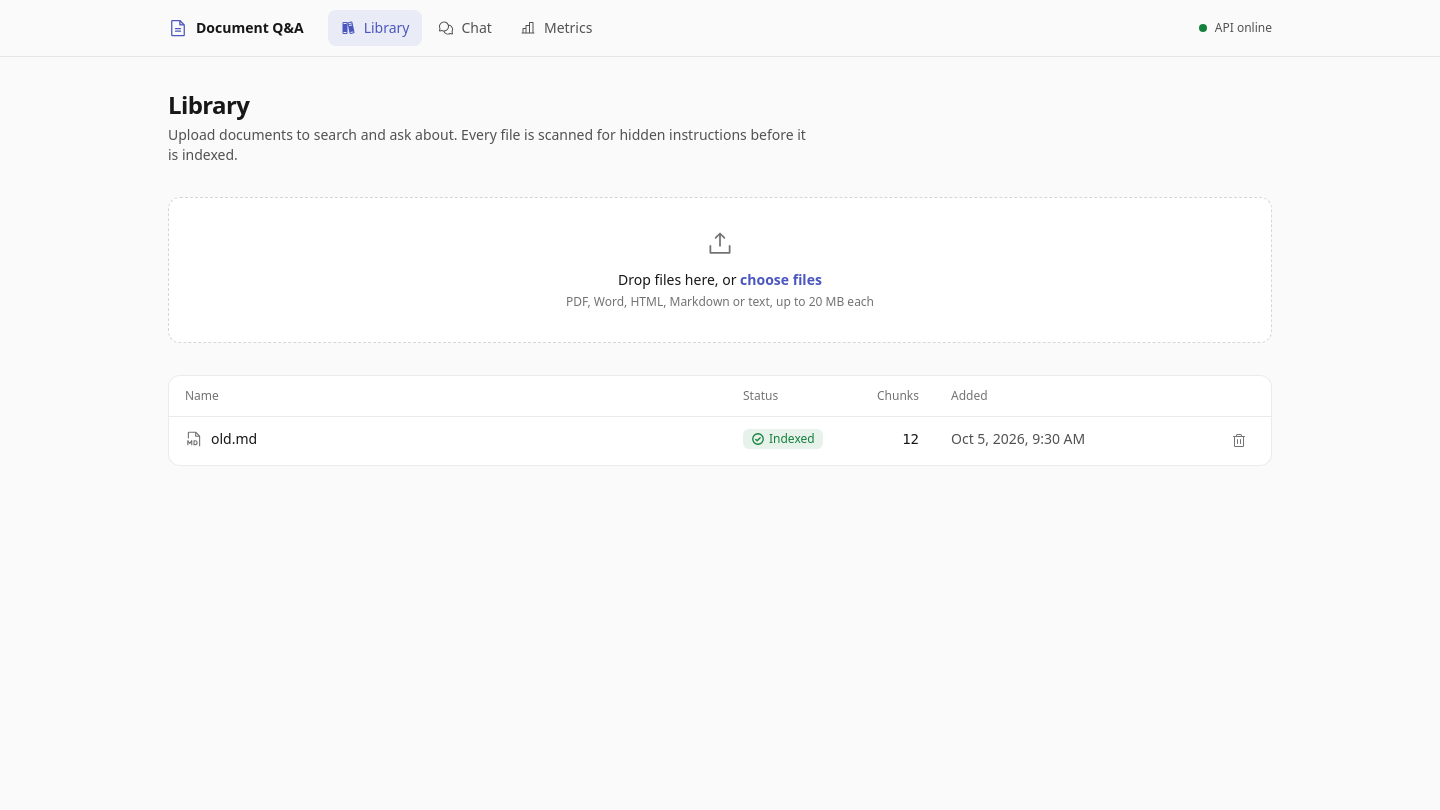
Scenario: delete › asks for confirmation, then deletes and refreshes
The image size is (1440, 810).
Click the button named "Delete old.md". click: (1239, 441)
box: [1223, 425, 1255, 457]
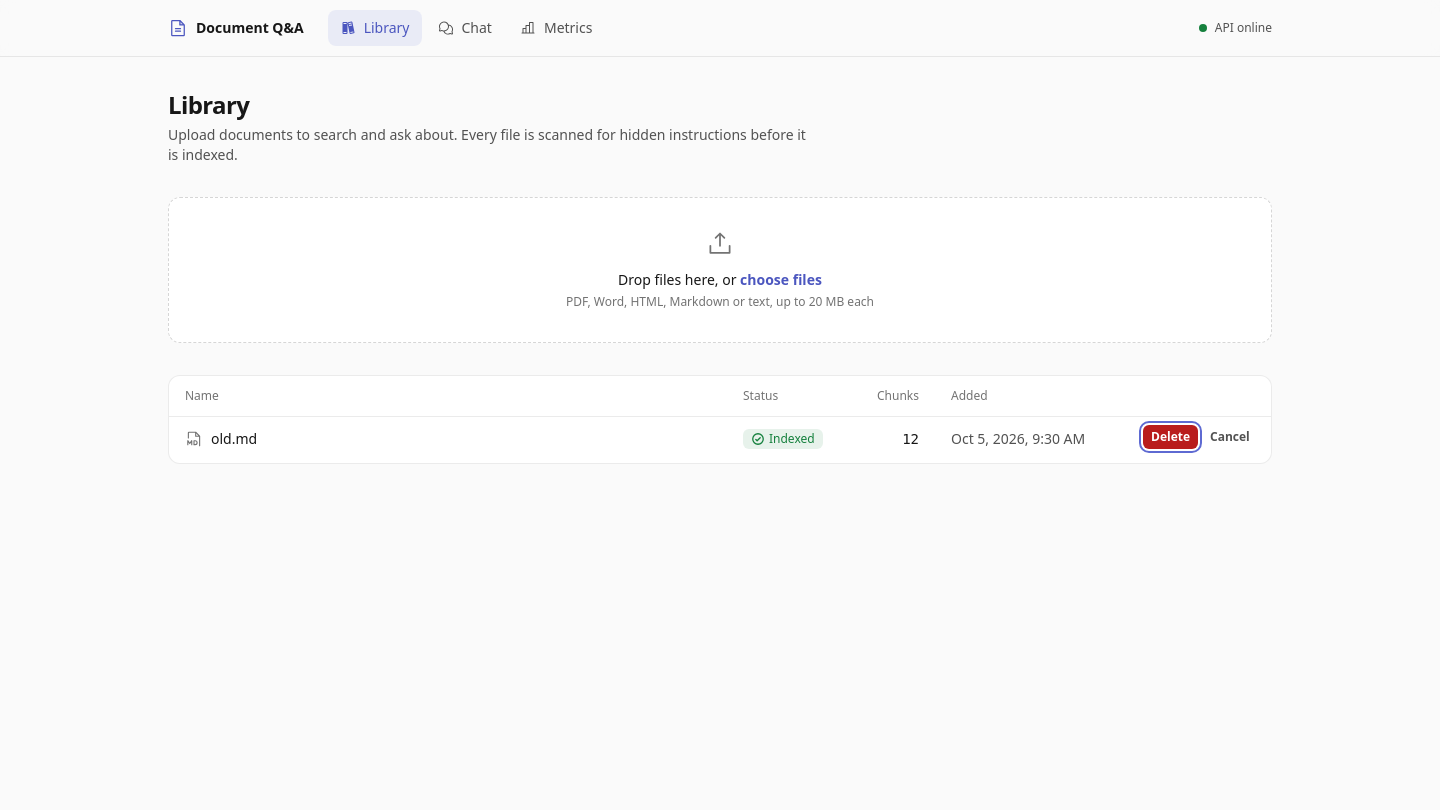
Click the button "Delete". click: (1170, 437)
box: [1143, 425, 1198, 449]
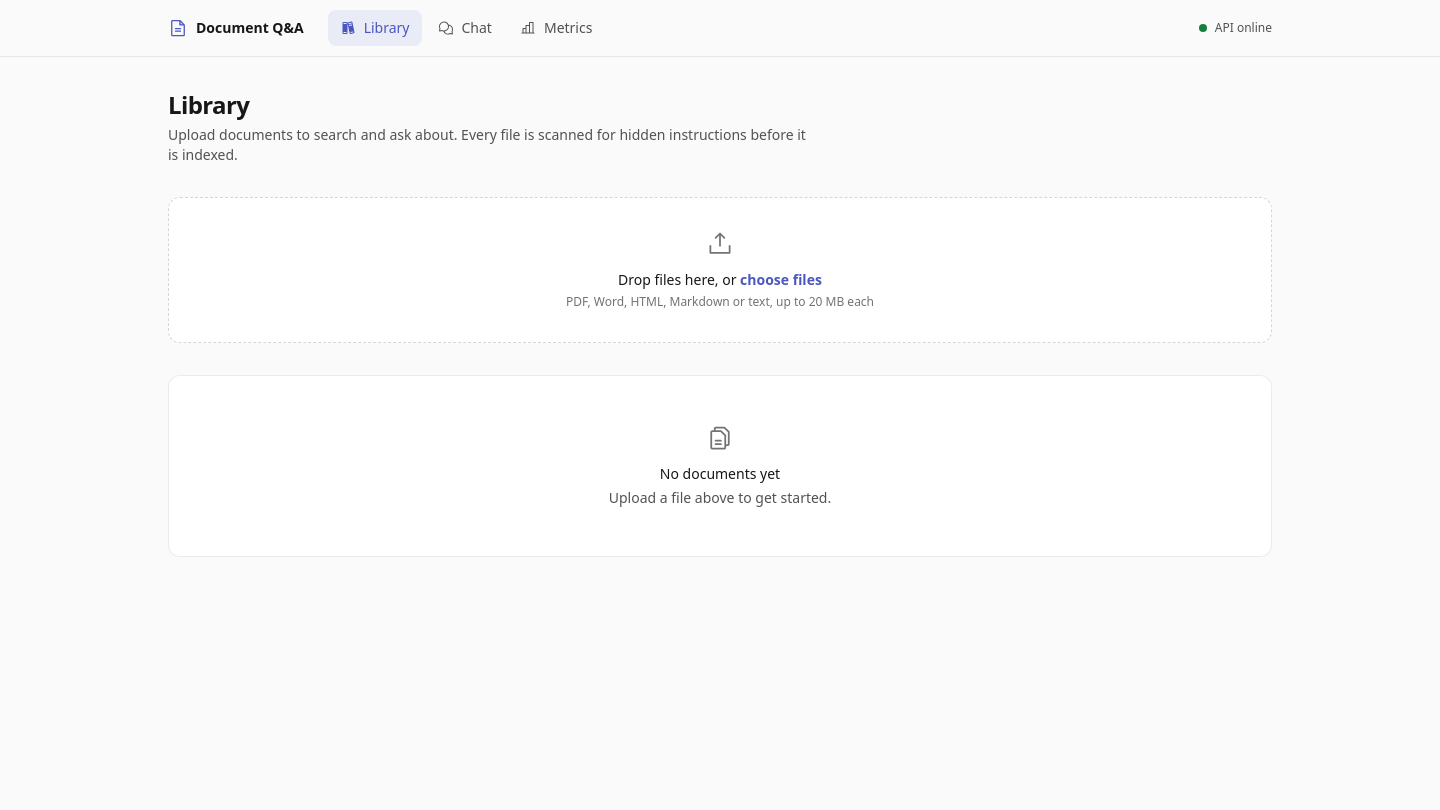
expect the text "No documents yet" is shown: met, box [660, 464, 780, 483]
